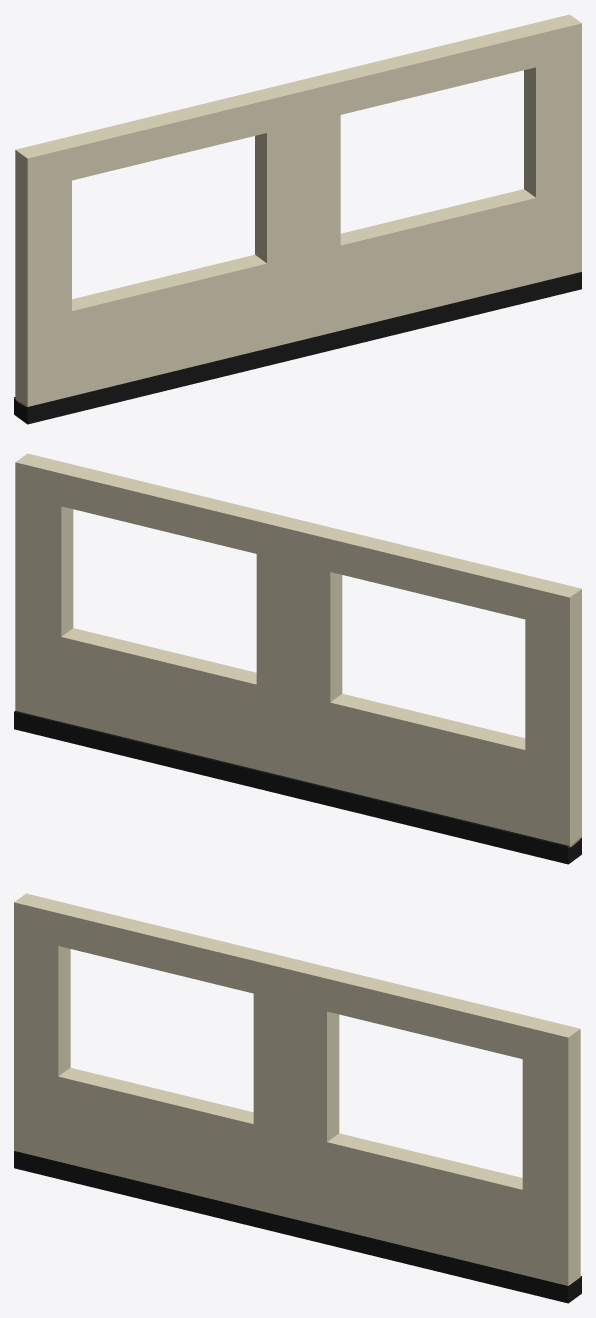
Rendered from Wall 4.FBX.
3 renders of one model, top to bottom at view 1: azimuth 30°, elevation 25°; view 2: azimuth 150°, elevation 25°; view 3: azimuth 330°, elevation 25°, orthographic.
Parts seen in each view (by area): view 1: Wall 4; view 2: Wall 4; view 3: Wall 4.
Boxes of the visible parts, x1=… form: Wall 4: x1=14, y1=14, x2=581, y2=424; Wall 4: x1=14, y1=453, x2=581, y2=864; Wall 4: x1=14, y1=893, x2=581, y2=1303.
Size of the model in its own units: 532 by 244 by 22.53.
1 material, 1 textured.
